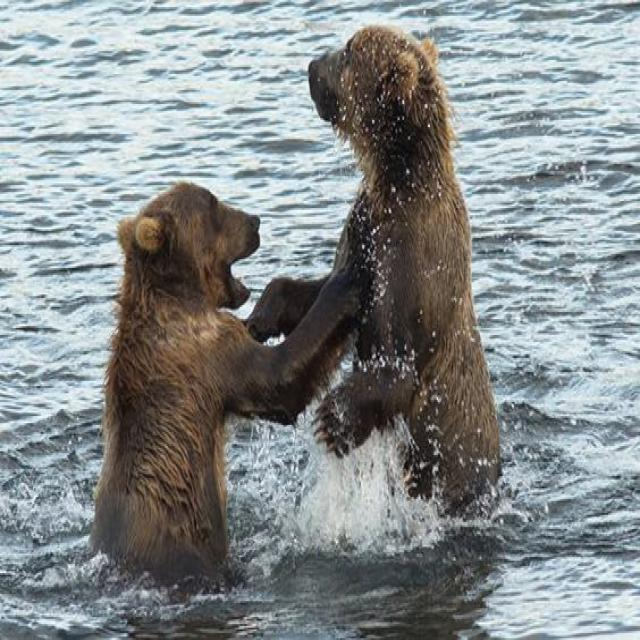Bear: (246, 25, 503, 517), (90, 183, 361, 589)
